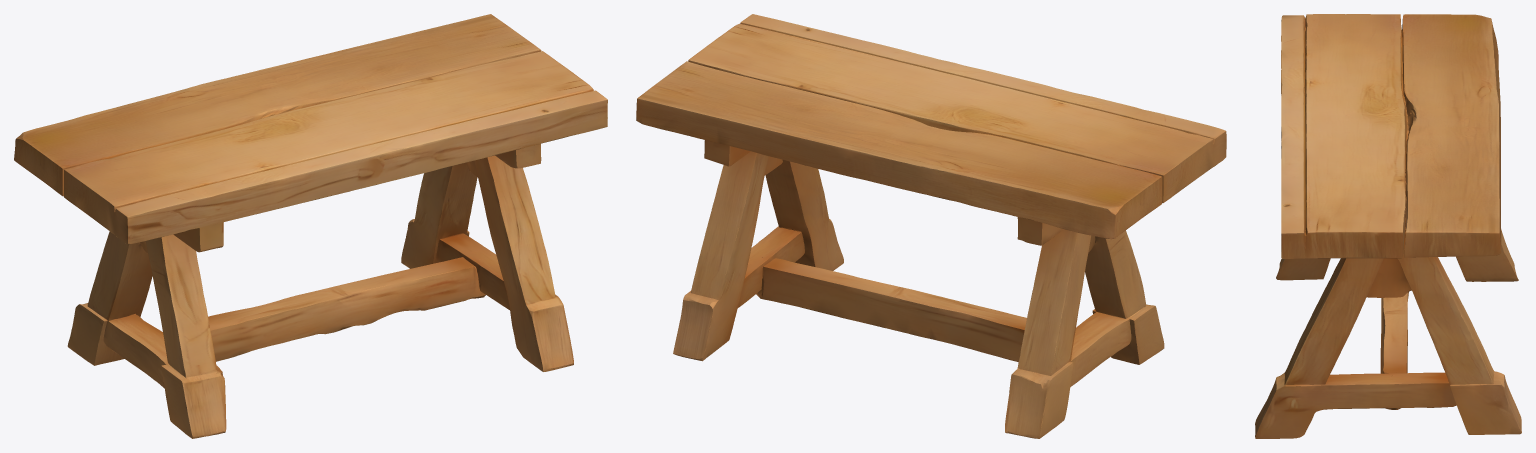
Rendered from workbench.glb.
3 renders of one model, left to right at view 1: azimuth 30°, elevation 25°; view 2: azimuth 150°, elevation 25°; view 3: azimuth 270°, elevation 25°, orthographic. The views are drawn at different scales.
Visible parts, largest first — view 1: Native Timber Workbench Mesh 1; view 2: Native Timber Workbench Mesh 1; view 3: Native Timber Workbench Mesh 1.
Part boxes in pixels (<box>): Native Timber Workbench Mesh 1: <box>14,14,607,438</box>; Native Timber Workbench Mesh 1: <box>636,14,1226,438</box>; Native Timber Workbench Mesh 1: <box>1255,14,1521,438</box>.
Bounding box in the file's own units: 1.65 × 0.8053 × 0.8506.
1 material, 1 textured.
